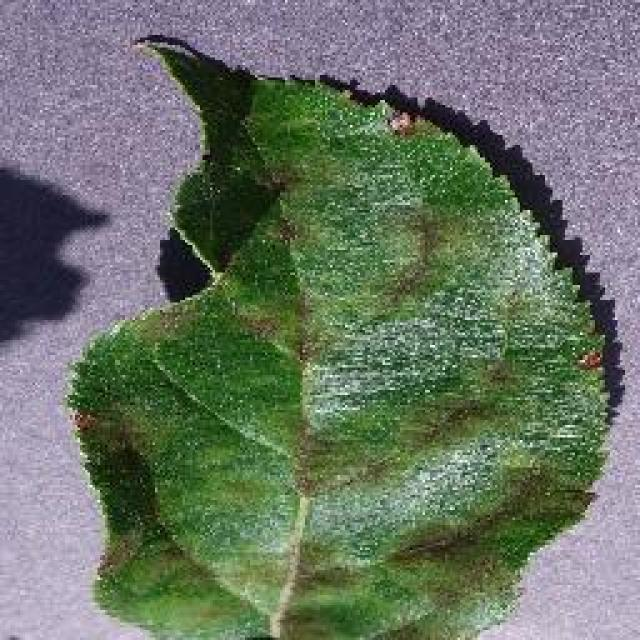apple scab disease: (65, 30, 617, 638)
